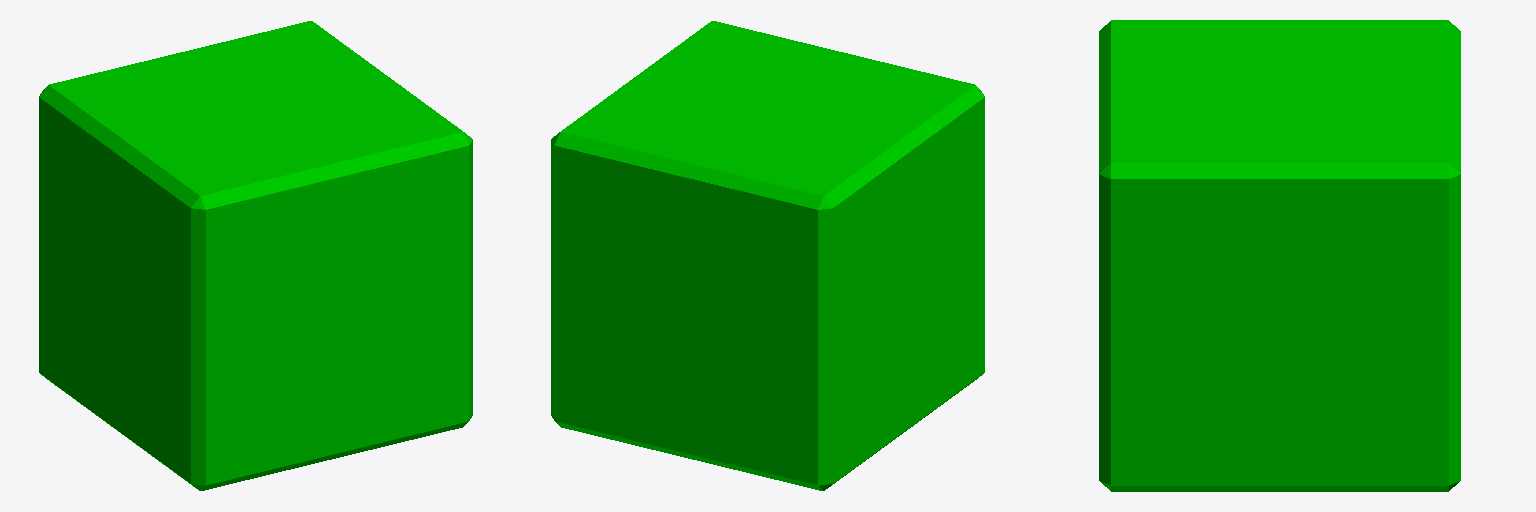
robot.urdf — real_cube_60mm_chamfer:
<robot name="real_cube_60mm_chamfer">
	<link name="object">
		<visual>
			<origin rpy="0.0 0.0 0.0" xyz="-0.6 -0.6 -0.6" />
			<geometry>
				<mesh filename="real_cube_60mm_chamfer/part.obj" scale="0.02 0.02 0.02" />
			</geometry>
			<material name="texture">
				<color rgba="0 0.8 0.0 1.0" />
			</material>
		</visual>
		<collision>
			<origin rpy="0.0 0.0 0.0" xyz="-0.6 -0.6 -0.6" />
			<geometry>
				<mesh filename="real_cube_60mm_chamfer/part_vhacd.obj" scale="0.02 0.02 0.02" />
			</geometry>
		</collision>
		<inertial>
			<mass value="0.010" />
			<inertia ixx="1.0" ixy="0.0" ixz="0.0" iyy="1.0" iyz="0.0" izz="1.0" />
		</inertial>
	</link>
</robot>

--- Render facts (derived) ---
3 views of the same robot in one strip: view 1: azimuth 30°, elevation 25°; view 2: azimuth 150°, elevation 25°; view 3: azimuth 270°, elevation 25° (orthographic).
Robot: real_cube_60mm_chamfer — 1 links, 0 joints (none); root link object; default pose: every joint at zero.
Visible links, largest first — view 1: object; view 2: object; view 3: object.
Boxes of the visible links, x1,y1,x2,y2 form: object: (39,21,472,490); object: (551,21,984,490); object: (1099,20,1460,491).
Size in the robot's own frame: 1.2 by 1.2 by 1.2 metres.
1 mesh visuals loaded from 1 distinct referenced files (1 OBJ).